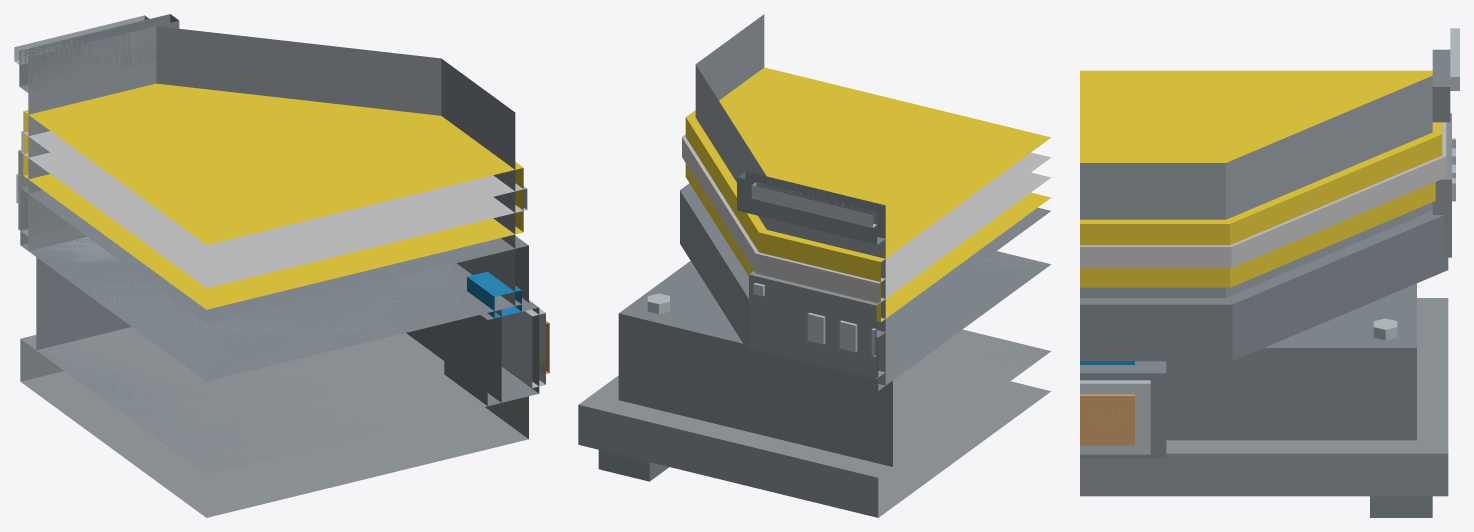
Rendered from cell_1.obj.
3 renders of one model, left to right at view 1: azimuth 30°, elevation 25°; view 2: azimuth 150°, elevation 25°; view 3: azimuth 270°, elevation 25°, orthographic. The views are drawn at different scales.
Bounding box in the file's own units: 1 × 1 × 0.97.
